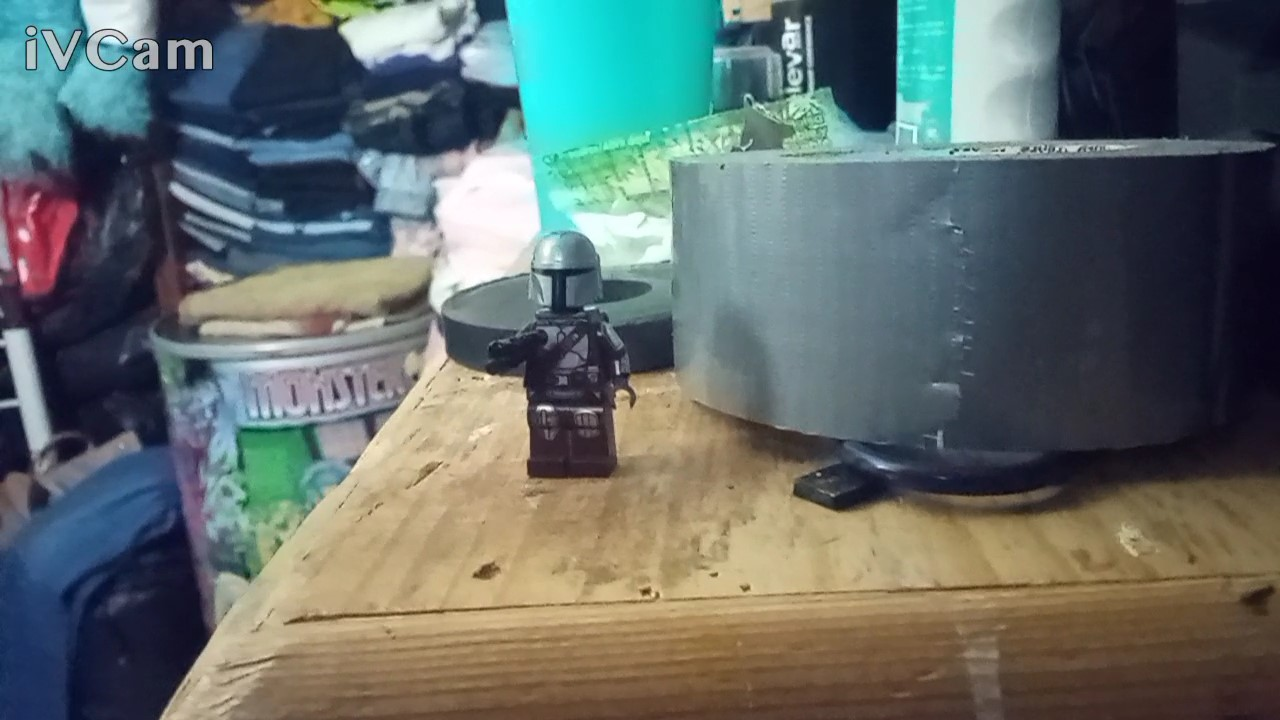mandalorian: (474, 213, 657, 488)
